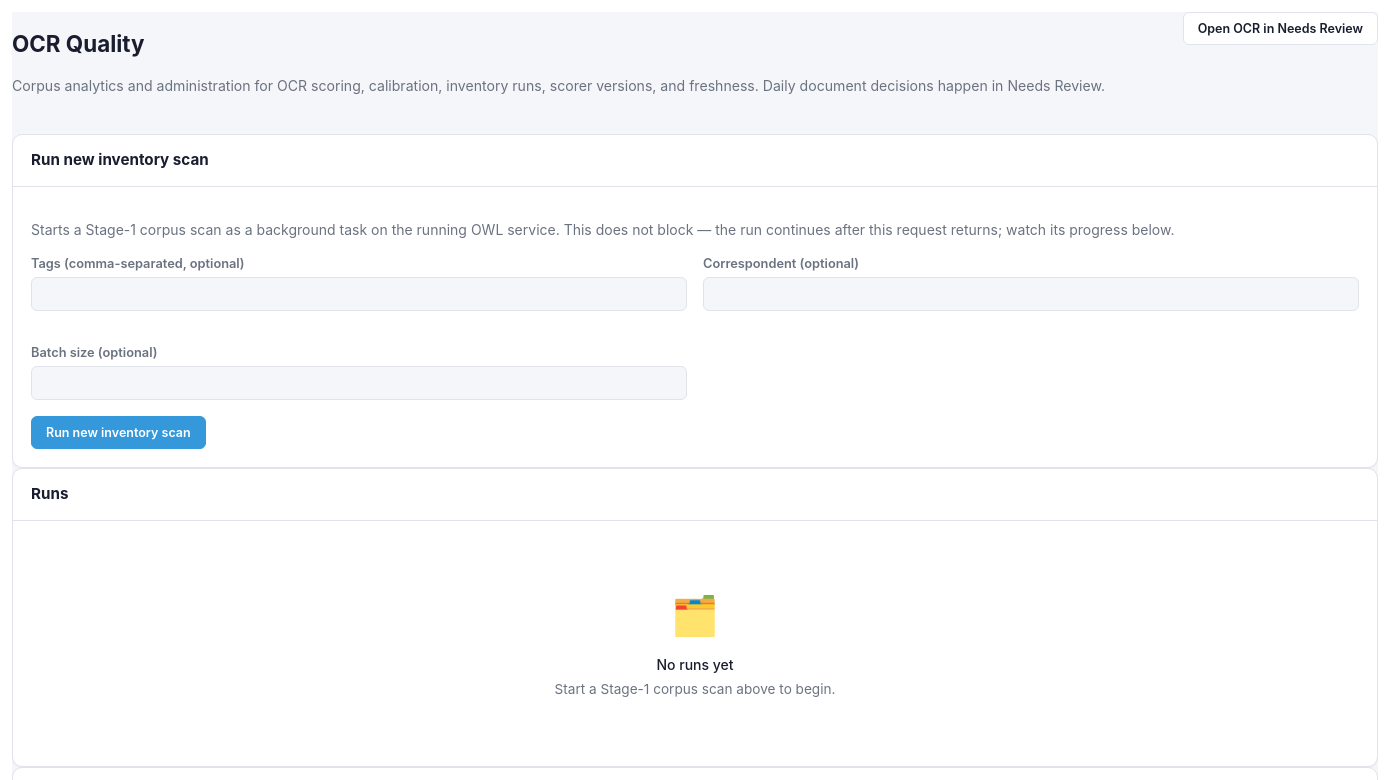
OcrQualityDashboard — Runs panel (manual trigger, issue #30) › shows a generic error toast when starting a scan fails for another reason
Expected: the text "No runs yet" is shown, [656, 656, 734, 674]
Click the button "Run new inventory scan": [118, 432] box [31, 416, 206, 449]
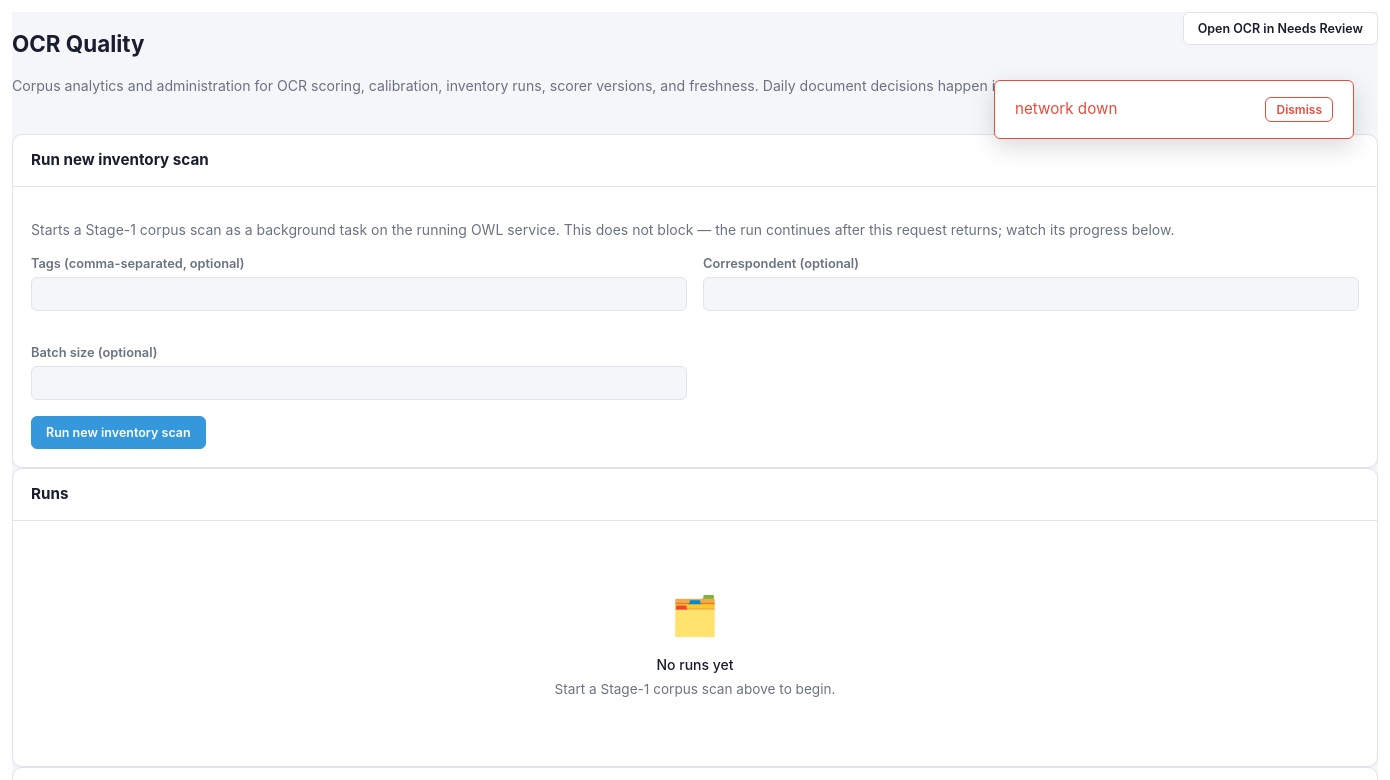
Now the text "network down" is shown, box [1015, 100, 1117, 118]
